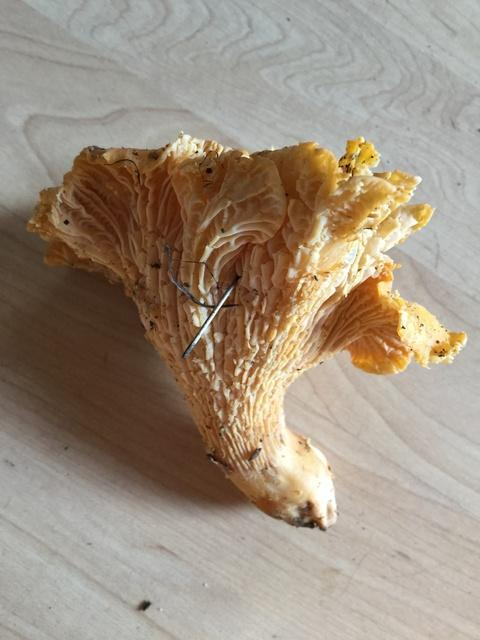Edible Mushroom: (25, 130, 467, 531)
